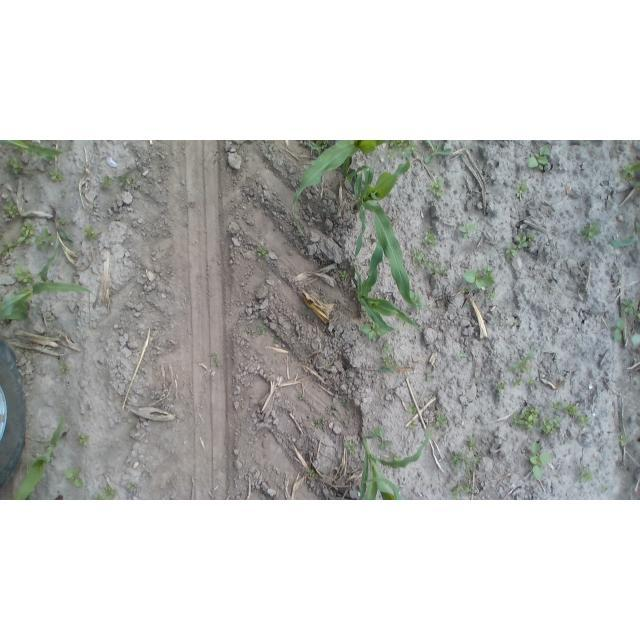Maize: (344, 157, 421, 307), (296, 141, 397, 236), (349, 238, 420, 336), (351, 426, 432, 500), (1, 277, 93, 324), (14, 418, 67, 498), (0, 140, 64, 164)
Weeds: (450, 453, 481, 498), (411, 247, 449, 277), (506, 234, 535, 262), (513, 404, 542, 430), (464, 271, 494, 294), (529, 441, 544, 484), (423, 141, 451, 164), (563, 405, 589, 428), (509, 351, 538, 371), (527, 146, 550, 171), (619, 160, 640, 187), (370, 429, 391, 450), (36, 229, 52, 255), (389, 140, 415, 156), (362, 324, 386, 341), (3, 199, 21, 219), (19, 221, 34, 245), (581, 221, 599, 241), (94, 486, 119, 500), (65, 468, 83, 487), (573, 465, 591, 484), (459, 221, 478, 239), (611, 318, 626, 340), (13, 268, 33, 284), (382, 357, 399, 375), (621, 297, 637, 315), (540, 422, 560, 436), (3, 238, 18, 255), (430, 180, 445, 196), (83, 227, 100, 241), (6, 161, 22, 175), (49, 169, 66, 182), (410, 291, 422, 308), (436, 413, 448, 429), (76, 434, 90, 447), (424, 234, 438, 247), (382, 340, 394, 353), (492, 380, 504, 392), (467, 435, 476, 451), (456, 349, 468, 361), (118, 175, 129, 188), (345, 441, 356, 454), (519, 181, 529, 194), (256, 247, 268, 257), (104, 174, 113, 187), (409, 404, 419, 415), (125, 482, 135, 492), (260, 323, 269, 334), (513, 376, 522, 387), (313, 419, 324, 427), (60, 364, 68, 373), (340, 401, 350, 408), (306, 470, 315, 477)
